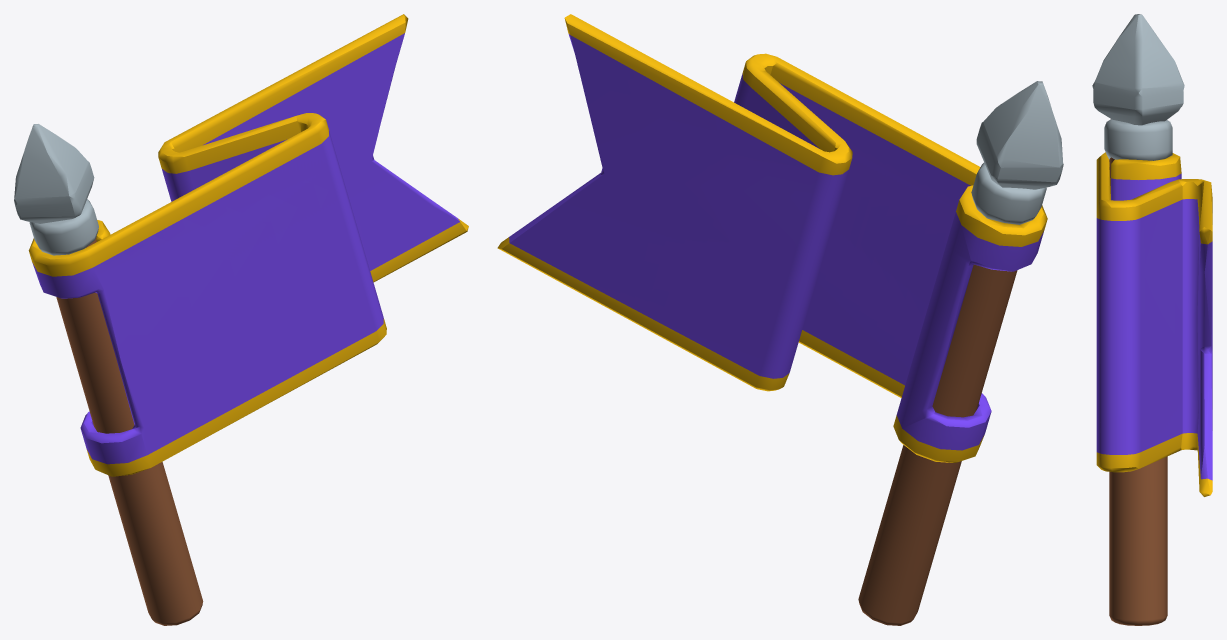
3 views of the same model, side by side, from view 1: azimuth 30°, elevation 25°; view 2: azimuth 150°, elevation 25°; view 3: azimuth 270°, elevation 25° (orthographic). The views are drawn at different scales.
Parts seen in each view (by area): view 1: model_1.055; view 2: model_1.055; view 3: model_1.055.
Part boxes in pixels (x1,y1,x2,y2): model_1.055: [14, 14, 468, 625]; model_1.055: [497, 14, 1063, 625]; model_1.055: [1092, 14, 1212, 625].
Size of the model in its own units: 4.44 by 4.61 by 0.9261.
